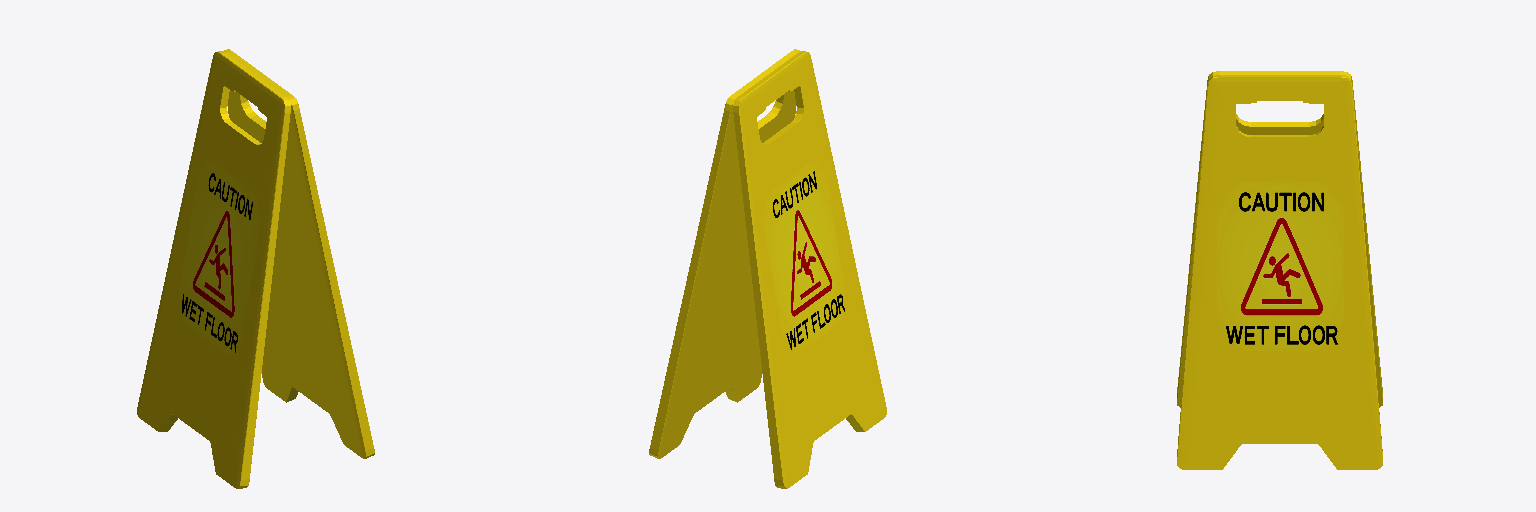
3 views of the same model, side by side, from view 1: azimuth 30°, elevation 25°; view 2: azimuth 150°, elevation 25°; view 3: azimuth 270°, elevation 25° (orthographic).
Visible parts, largest first — view 1: Cube.007; view 2: Cube.007; view 3: Cube.007.
Part boxes in pixels (left/top/right/bottom): Cube.007: left=137, top=49, right=374, bottom=488; Cube.007: left=649, top=49, right=886, bottom=488; Cube.007: left=1177, top=71, right=1382, bottom=469.
Size of the model in its own units: 3.23 by 8.18 by 4.2.
Materials: 2 (2 with a texture image).